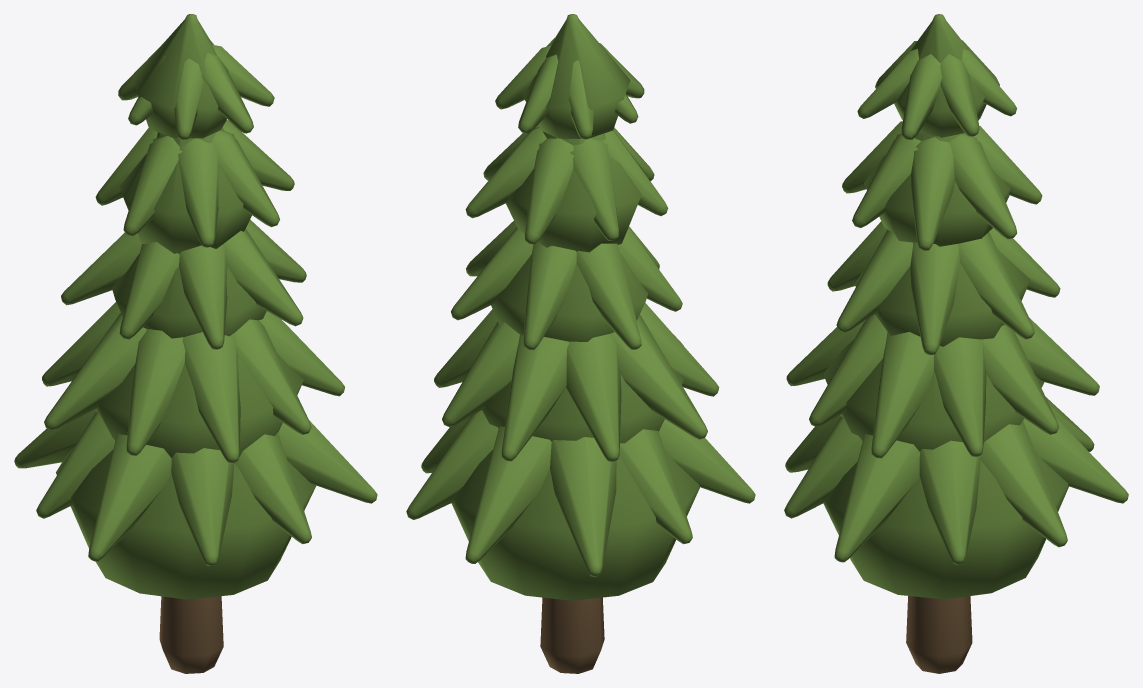
File: prop_pine3_94f0.glb
3 renders of one model, left to right at view 1: azimuth 30°, elevation 25°; view 2: azimuth 150°, elevation 25°; view 3: azimuth 270°, elevation 25°, orthographic.
Visible parts, largest first — view 1: prop_pine3_94f0; view 2: prop_pine3_94f0; view 3: prop_pine3_94f0.
Part boxes in pixels (box(x1,y1,x2,y2)): prop_pine3_94f0: box(14, 14, 377, 673); prop_pine3_94f0: box(406, 14, 755, 673); prop_pine3_94f0: box(784, 14, 1128, 673).
Size of the model in its own units: 1.22 by 2.71 by 1.28.
1 material, 1 textured.
